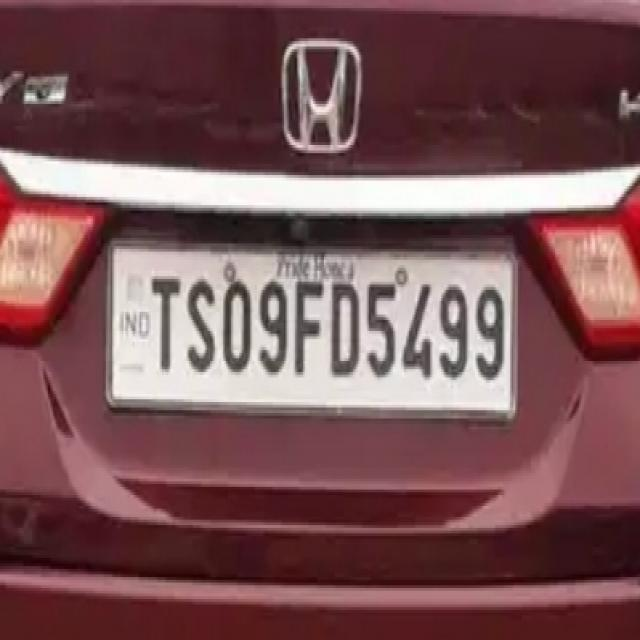0: (220, 270, 253, 384)
4: (402, 266, 436, 400)
5: (364, 270, 401, 396)
9: (251, 263, 291, 389), (473, 264, 508, 401), (437, 264, 472, 388)
D: (324, 266, 364, 394)
F: (292, 270, 326, 384)
S: (186, 266, 216, 382)
T: (146, 264, 187, 379)
